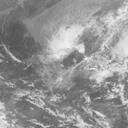cyclone: (39, 23, 103, 79)
